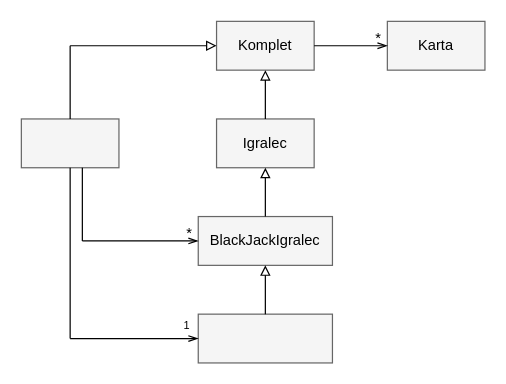
Image size: 506x384. Some labels were removed from this diagram. The shapes that lost their labels are listed below. From the top down, each one's centre as x and y in pixels, then its label:
(69,143): BlackJack
(264,338): BlackJackDelivec
